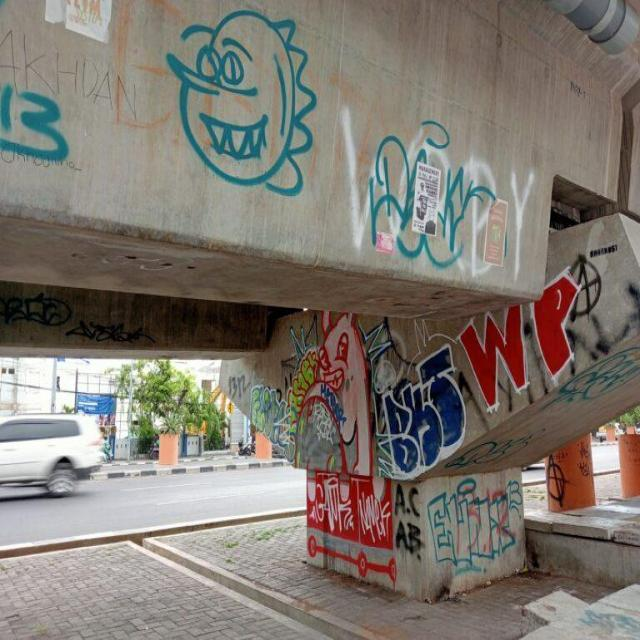nonspitting: (340, 106, 534, 281), (164, 6, 314, 198), (229, 304, 374, 474), (462, 263, 580, 415), (0, 28, 140, 116), (380, 346, 466, 478), (306, 478, 400, 582), (428, 479, 521, 578), (0, 82, 74, 163), (556, 338, 640, 404), (449, 431, 532, 472), (393, 485, 423, 553), (545, 453, 569, 503)
